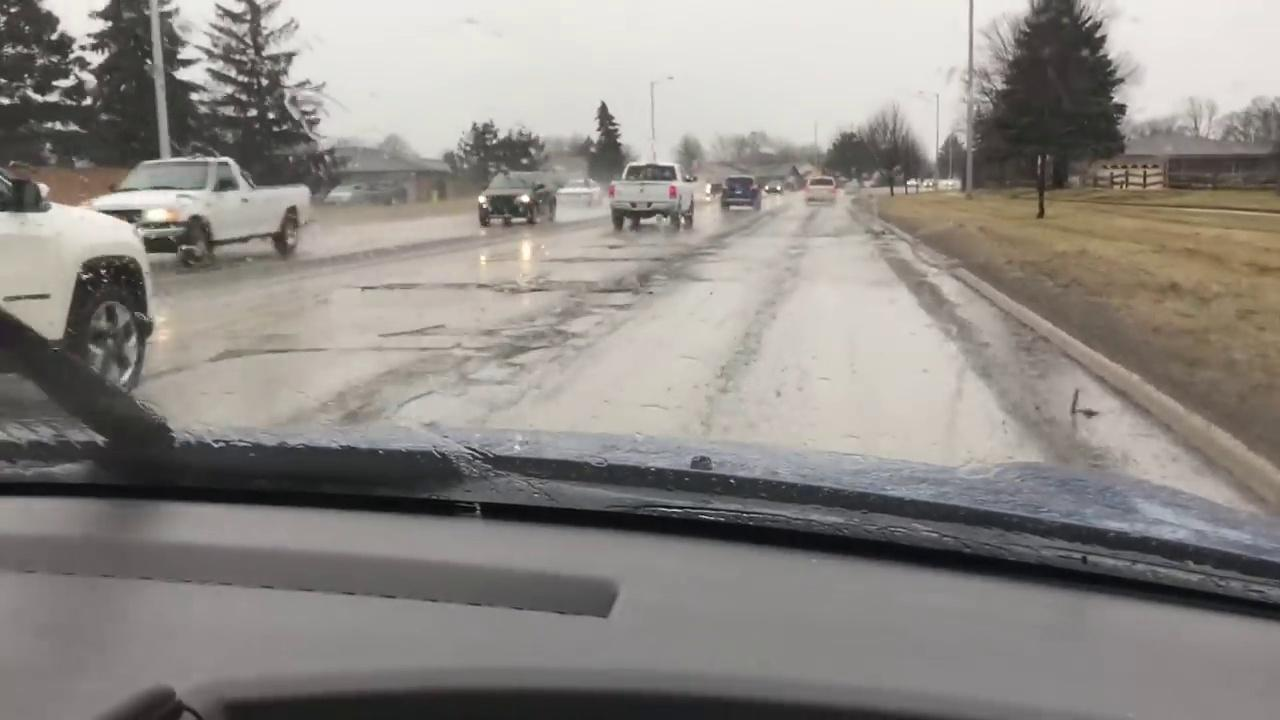pothole: (445, 343, 518, 387), (572, 285, 641, 306), (554, 310, 605, 335)
